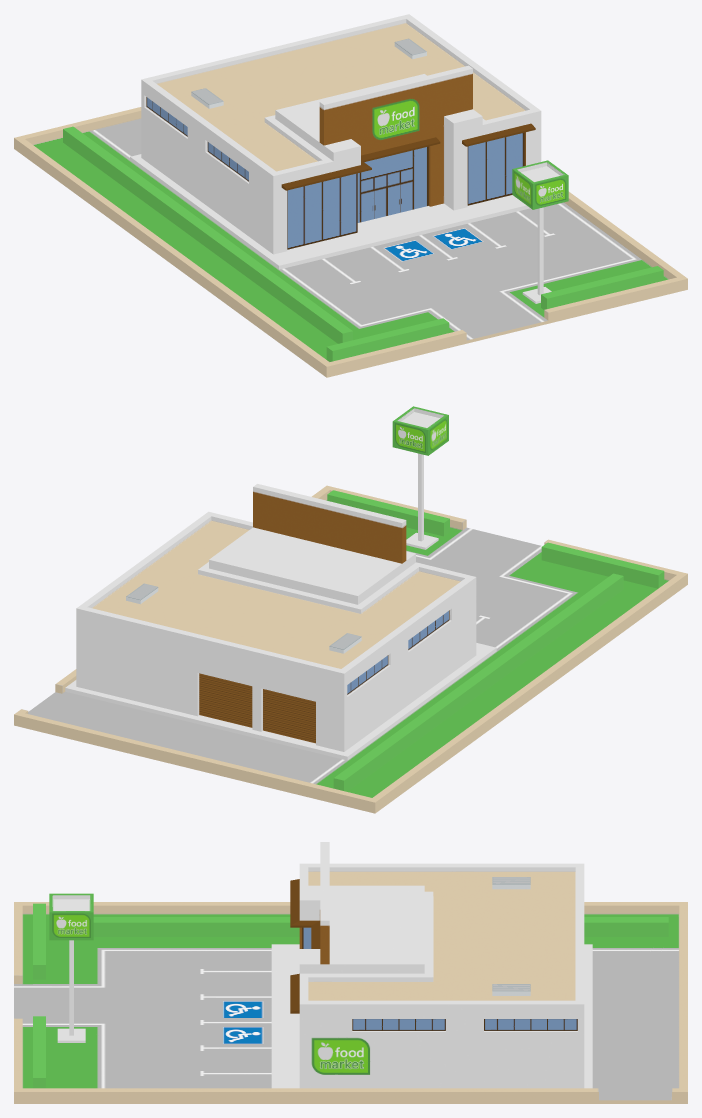
Rendered from FoodMarket.glb.
3 views of the same model, one above another, from view 1: azimuth 30°, elevation 25°; view 2: azimuth 150°, elevation 25°; view 3: azimuth 270°, elevation 25° (orthographic). The views are drawn at different scales.
Parts seen in each view (by area): view 1: food_market; view 2: food_market; view 3: food_market.
Boxes of the visible parts, <box> form: food_market: <box>14,14,687,377</box>; food_market: <box>14,406,687,813</box>; food_market: <box>14,842,687,1103</box>.
Size of the model in its own units: 12 by 4.28 by 18.
1 material, 1 textured.
